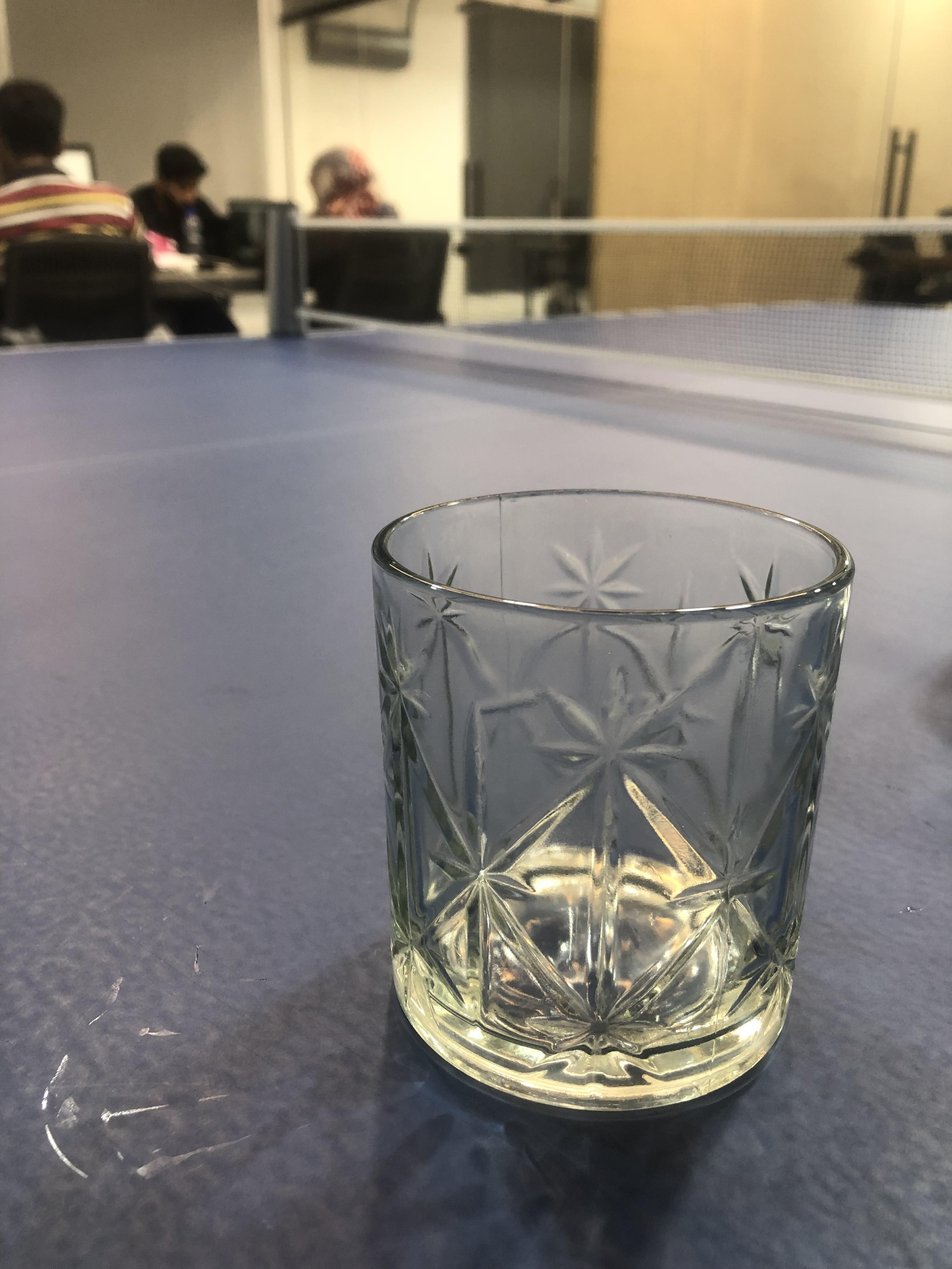glass-normal: (366, 465, 865, 1129)
